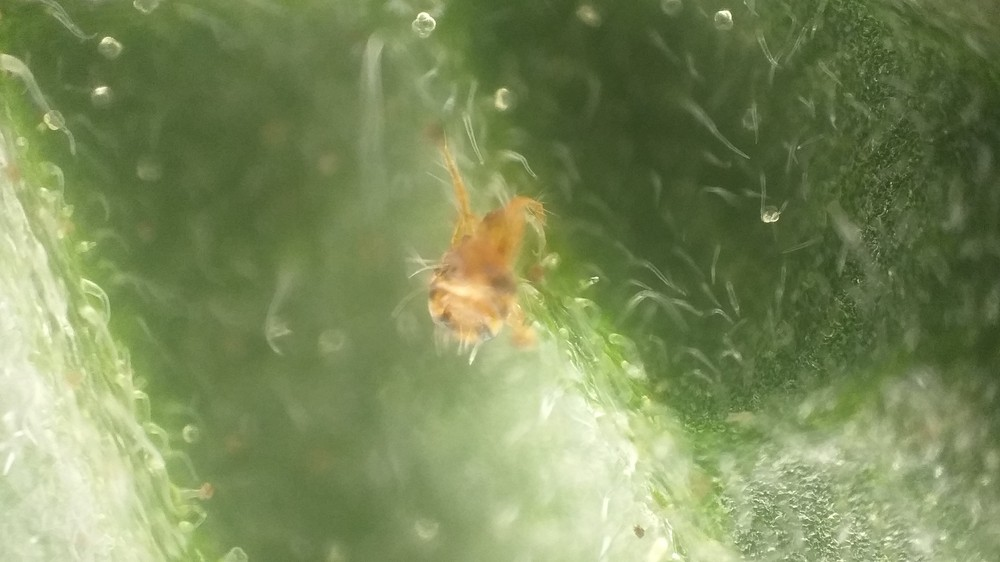Aracnido Rojo: (368, 121, 565, 389)
